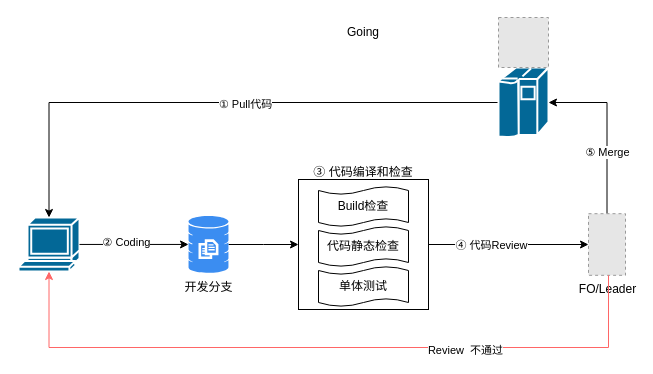
The diagram is 653 pixels wide and 374 high, and some of its shapes have lost their labels. Grey dashed boxes stand in for pictures. The box of each missing label's shape, as (x1, y1, x2, y2) in pixels:
开发者: (17, 216, 80, 272)
正式分支: (497, 66, 549, 138)
